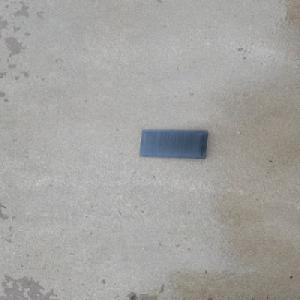PlasticPart: (138, 128, 209, 159)
